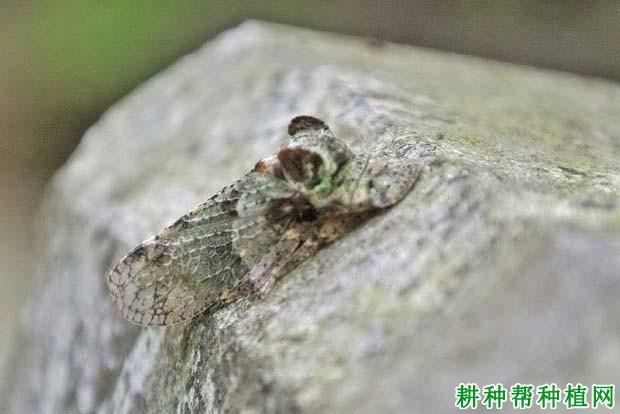Cicadellidae: (103, 115, 424, 327)
